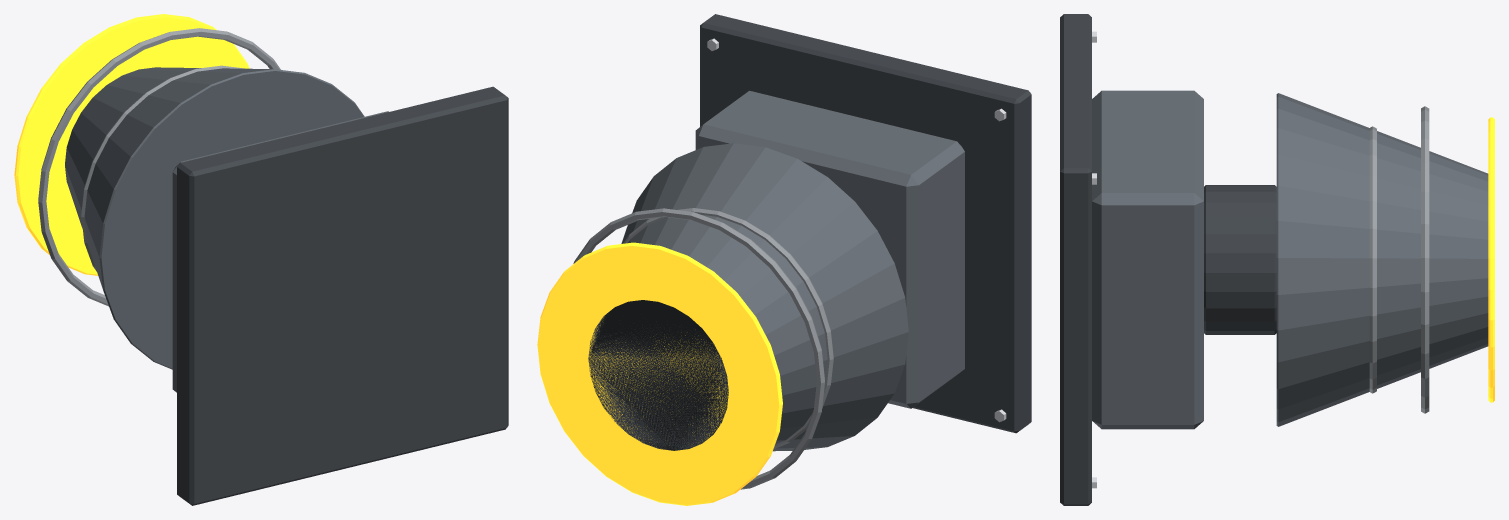
Rendered from stern_thruster.glb.
The picture shows the model from 3 angles, left to right: view 1: azimuth 30°, elevation 25°; view 2: azimuth 150°, elevation 25°; view 3: azimuth 270°, elevation 25°; orthographic projection.
Visible parts, largest first — view 1: stern_thruster; view 2: stern_thruster; view 3: stern_thruster.
Boxes of the visible parts, left/top/right/bottom form: stern_thruster: left=14, top=14, right=508, bottom=505; stern_thruster: left=537, top=14, right=1031, bottom=505; stern_thruster: left=1060, top=14, right=1494, bottom=505.
Bounding box in the file's own units: 1.2 × 1.2 × 1.4.
